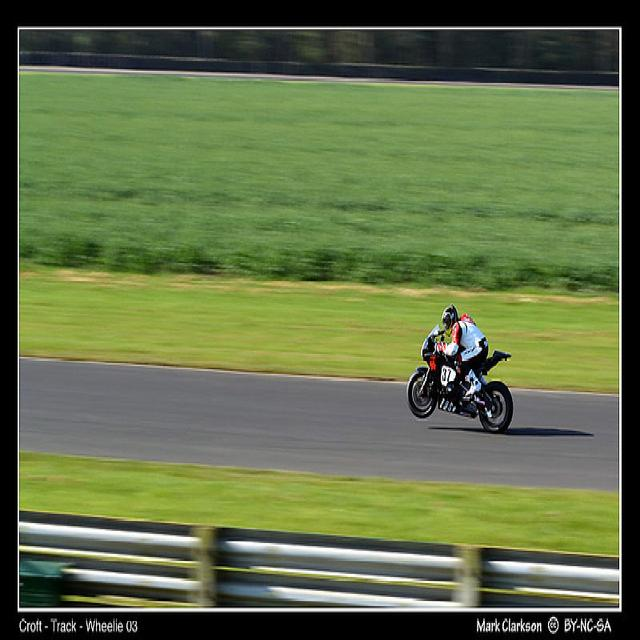motor: (403, 325, 516, 435)
